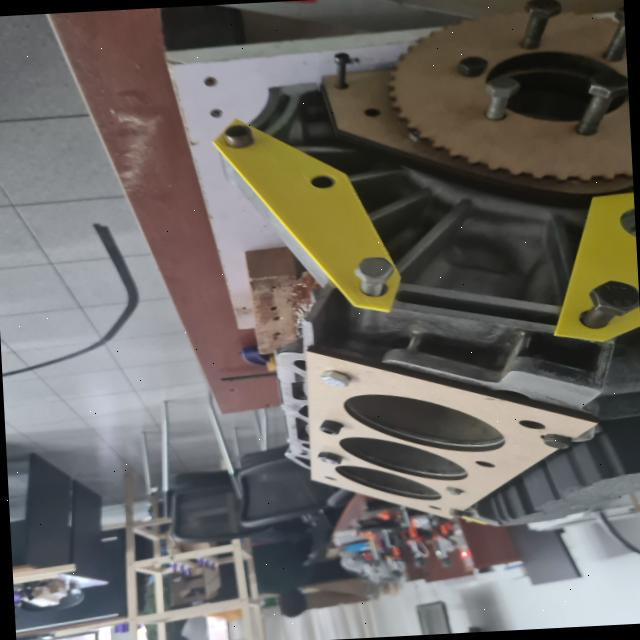tor_v1: (306, 351, 596, 518)
